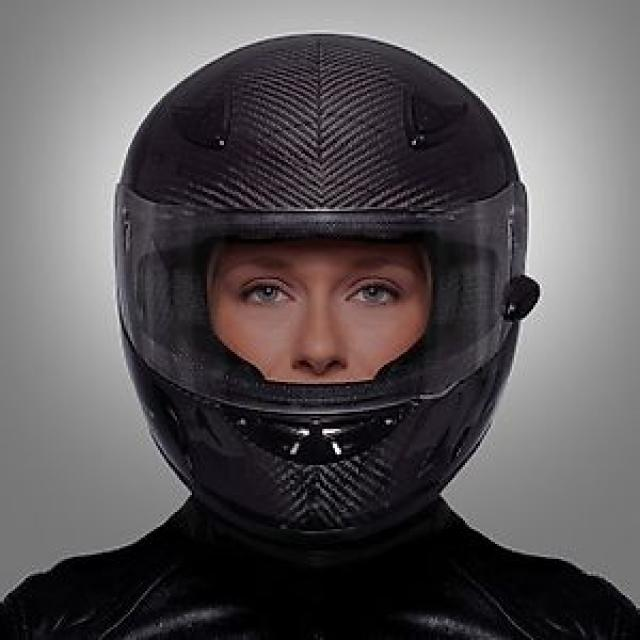Helm: (106, 31, 540, 549)
